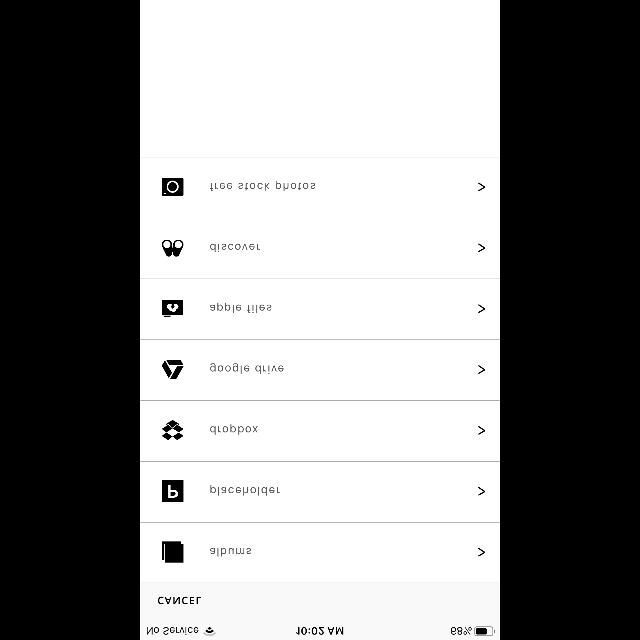icon: (162, 481, 184, 502), (162, 542, 184, 562), (162, 420, 184, 440), (162, 359, 184, 378), (162, 300, 184, 318), (162, 178, 184, 196), (162, 240, 184, 256), (479, 183, 485, 191), (479, 244, 485, 252), (479, 305, 485, 313), (479, 366, 485, 374), (479, 426, 485, 434), (479, 487, 485, 495), (479, 548, 485, 556)
text: (159, 598, 201, 604)
uppertaskbar: (140, 626, 500, 640)
